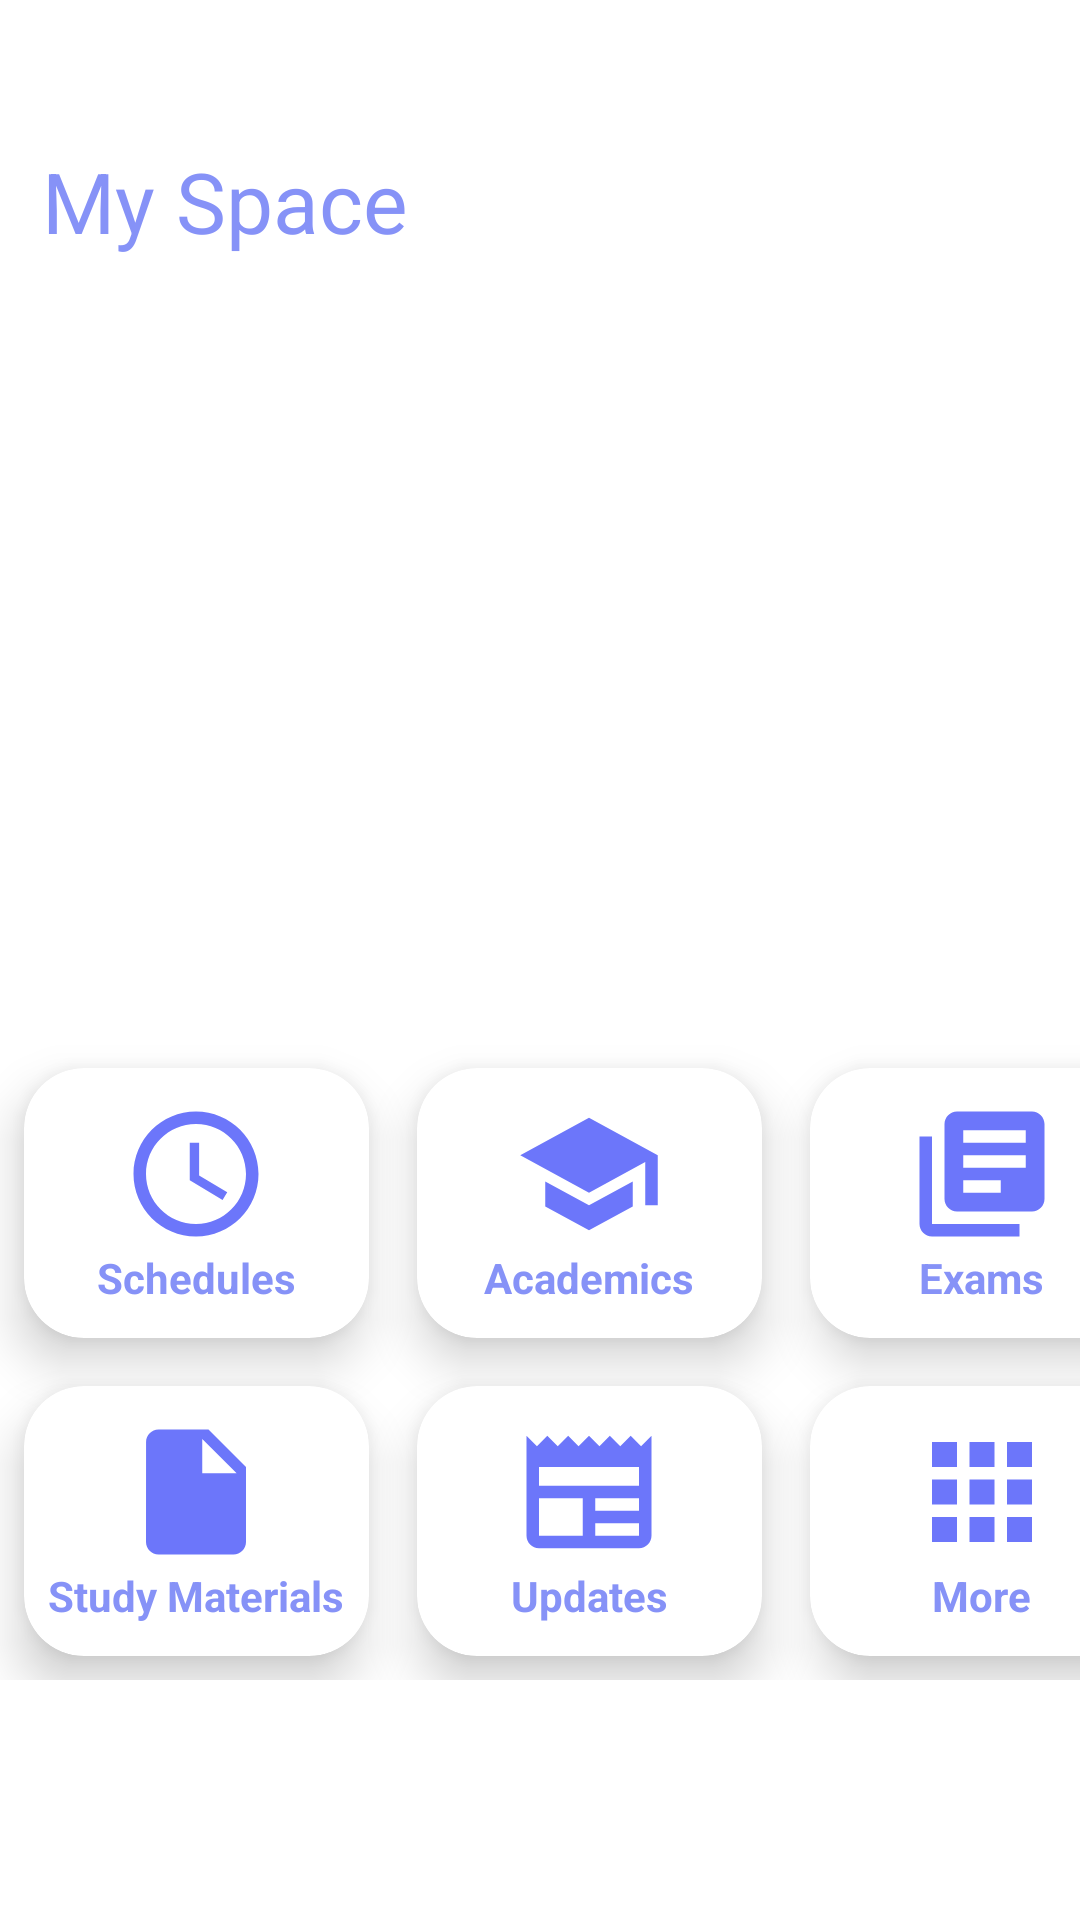

Screen size 1080px×1920px. Icon name, then its box in pixels as rect(x1, y1, x2, y2):
apps: rect(932, 1442, 1032, 1542)
books: rect(919, 1111, 1045, 1237)
file: rect(146, 1429, 246, 1555)
news: rect(526, 1436, 652, 1549)
school: rect(520, 1118, 658, 1230)
time: rect(133, 1111, 259, 1237)
